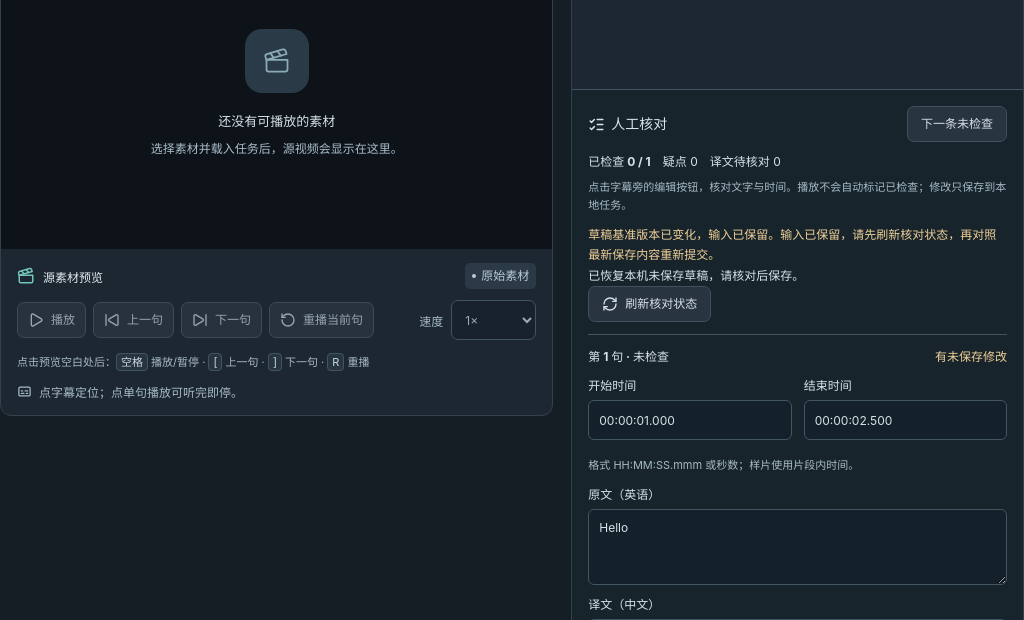
Test: persisted review drafts in the preview › retains a recovered revision conflict until the user explicitly refreshes the saved state
The image size is (1024, 620).
(page scrolled)
Expected: the text "草稿基准版本已变化，输入已保留。输入已保留，请先刷新核对状态，再对照最新保存内容重新提交。" is shown, [588,225,1007,266]
Click the button "刷新核对状态" at (650, 304), box [588,286,711,322]
(page scrolled)
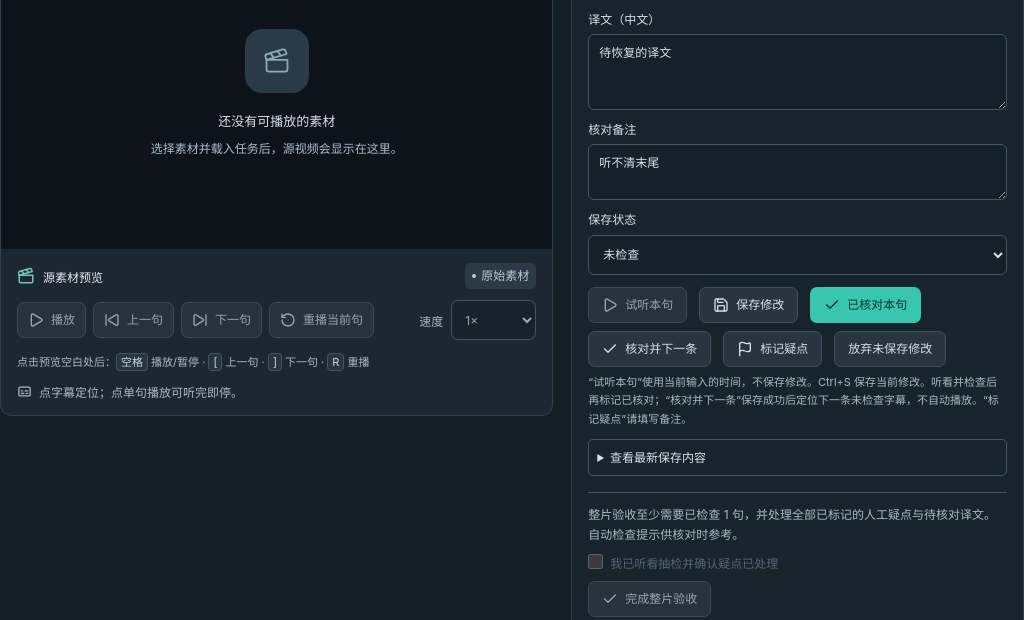
Expected: the text box labelled "译文（中文）" holds "待恢复的译文", [588,34,1007,110]
Now the button "保存修改" is enabled, box [699,287,798,323]
